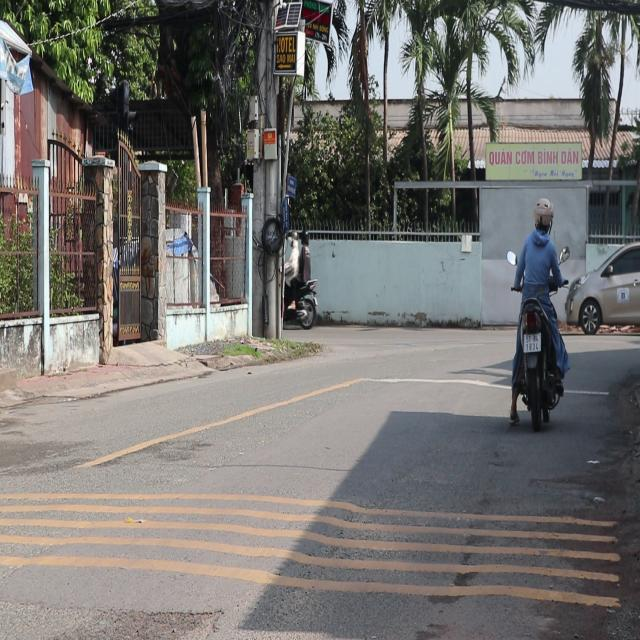helmet: (532, 196, 553, 233)
licenseplate: (506, 195, 569, 427)
nohelmet: (523, 333, 540, 351)
